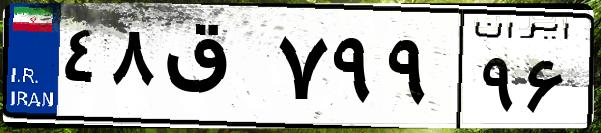4: (57, 26, 110, 100)
6: (525, 38, 570, 115)
7: (270, 28, 330, 110)
8: (110, 28, 158, 98)
9: (385, 28, 445, 110), (330, 28, 385, 110), (475, 38, 525, 113)
ق: (158, 20, 270, 120)
